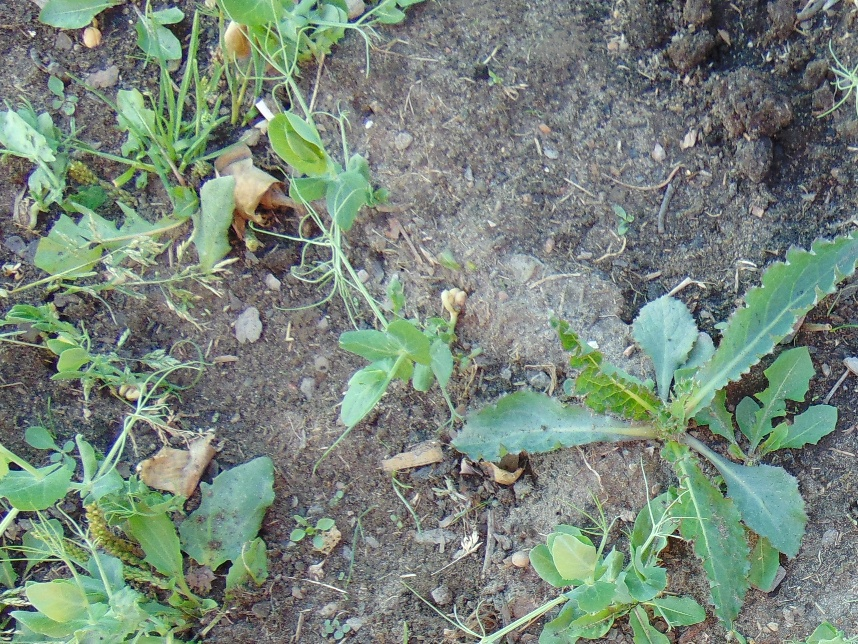crop: (2, 430, 145, 644), (464, 501, 678, 643), (1, 302, 173, 440), (255, 105, 373, 295), (337, 282, 472, 429), (221, 1, 375, 111), (1, 108, 107, 217), (832, 47, 858, 100), (802, 623, 853, 644)
weed: (474, 232, 858, 518), (678, 403, 856, 626), (107, 2, 227, 202), (1, 205, 237, 303), (37, 2, 187, 27), (630, 606, 709, 644), (289, 513, 335, 550), (45, 72, 78, 113), (614, 203, 637, 237)
